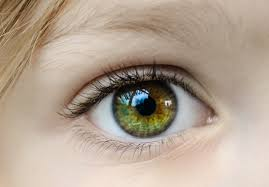pupil: (113, 80, 177, 136)
